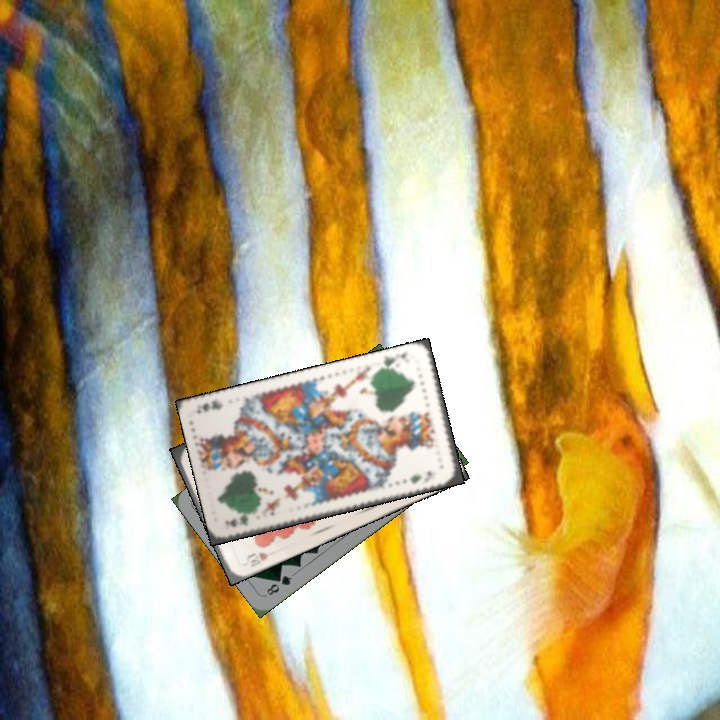G8: (262, 571, 295, 598)
GK: (377, 349, 410, 372), (221, 511, 251, 530)
H10: (238, 548, 271, 570)
